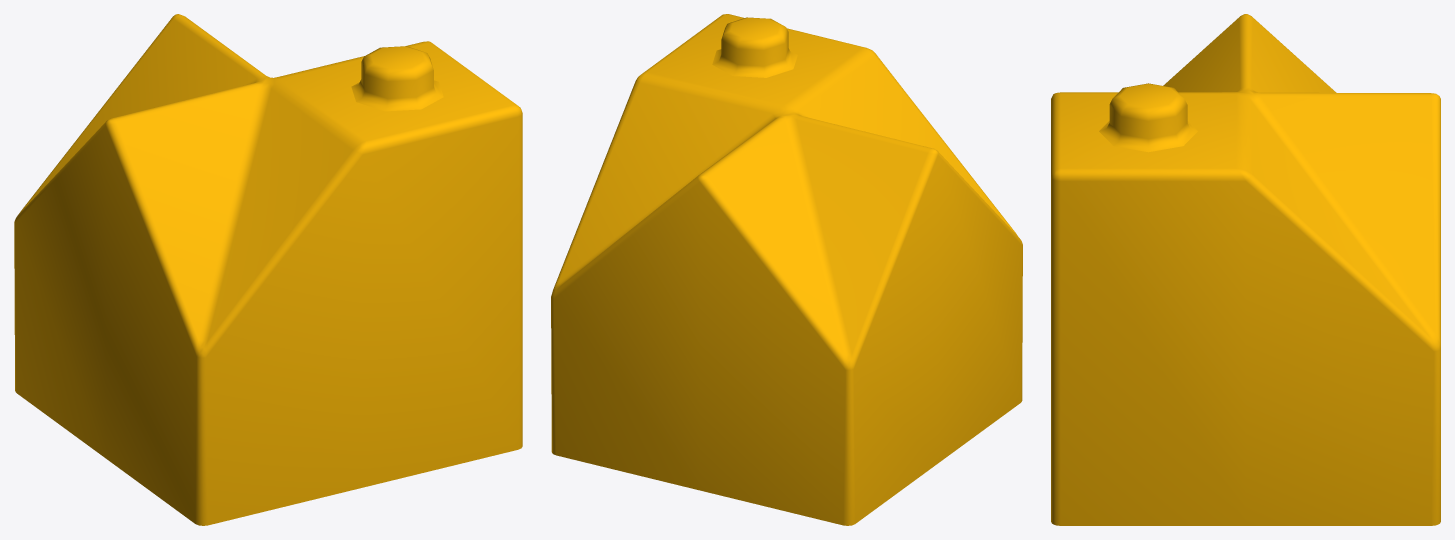
File: Lowered_Three_Corner.fbx
3 views of the same model, side by side, from view 1: azimuth 30°, elevation 25°; view 2: azimuth 150°, elevation 25°; view 3: azimuth 270°, elevation 25° (orthographic). The views are drawn at different scales.
Visible parts, largest first — view 1: Lowered_Three_Corner, Knobs.006; view 2: Lowered_Three_Corner, Knobs.006; view 3: Lowered_Three_Corner, Knobs.006.
Boxes of the visible parts, bbox=[...] form: Lowered_Three_Corner: bbox=[14, 14, 522, 525]; Knobs.006: bbox=[351, 46, 443, 111]; Lowered_Three_Corner: bbox=[551, 14, 1022, 525]; Knobs.006: bbox=[712, 17, 797, 77]; Lowered_Three_Corner: bbox=[1051, 14, 1440, 525]; Knobs.006: bbox=[1099, 83, 1197, 152].
Size of the model in its own units: 1 by 1.1 by 1.
